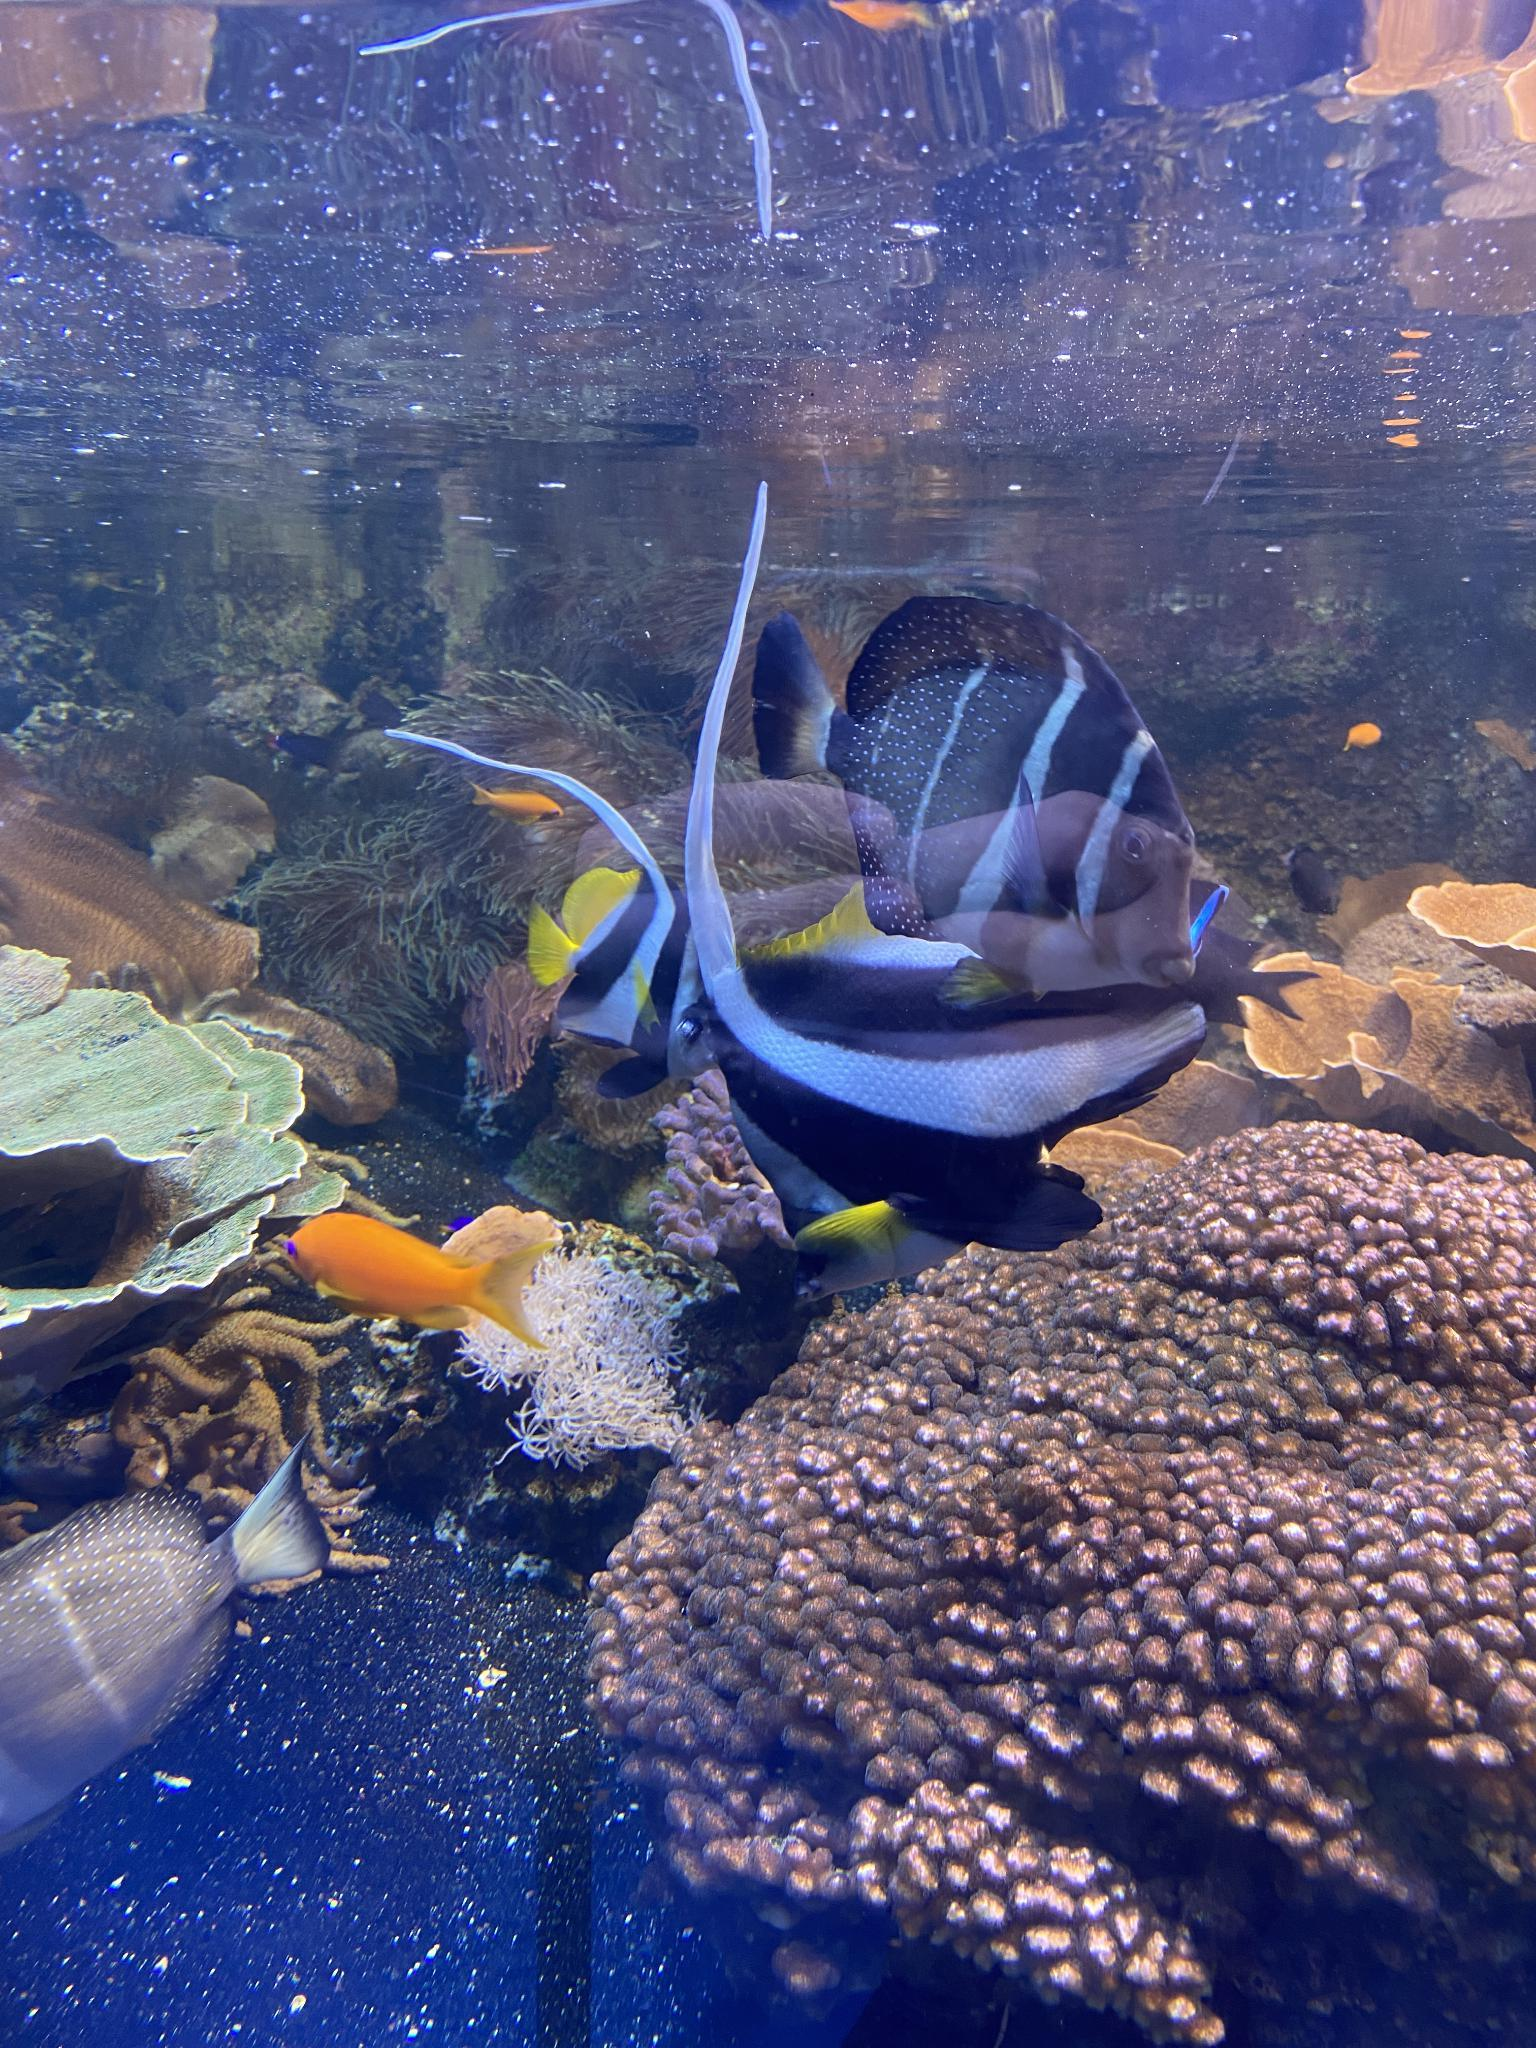fish: (702, 871, 1204, 1309), (749, 592, 1199, 1006), (0, 1426, 336, 1858), (523, 851, 734, 1097), (281, 1213, 529, 1332), (473, 780, 561, 826)
